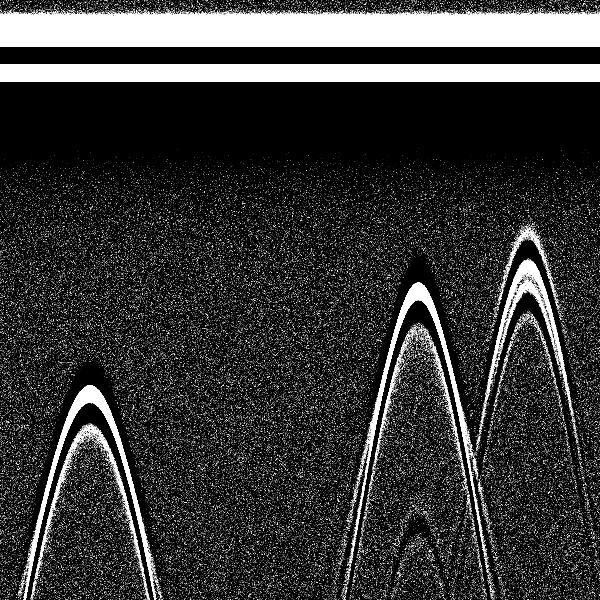pipe: (44, 4, 134, 463), (374, 6, 460, 362), (488, 3, 566, 324)
